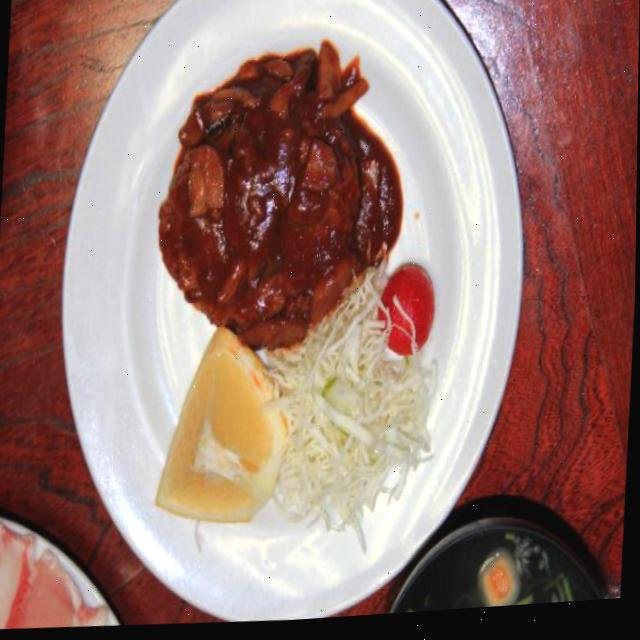蔬菜料理: (206, 303, 441, 554)
